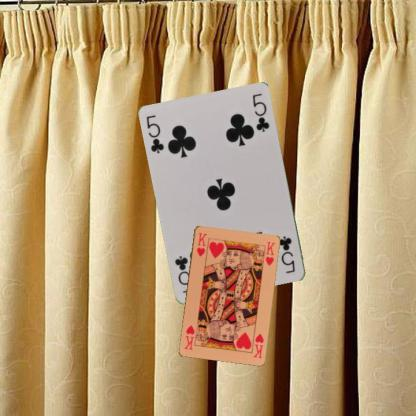5c: (144, 112, 166, 155), (276, 233, 297, 275)
Kh: (250, 330, 265, 359), (194, 230, 208, 258)
